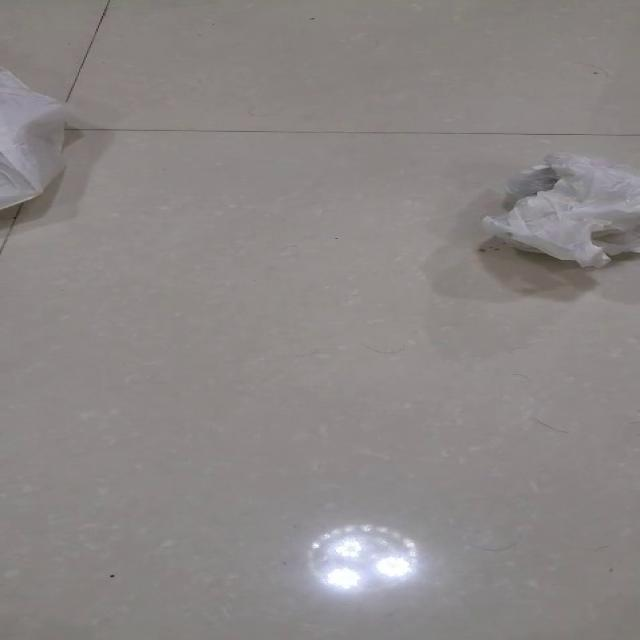plastic: (481, 151, 638, 268), (0, 66, 68, 210)
